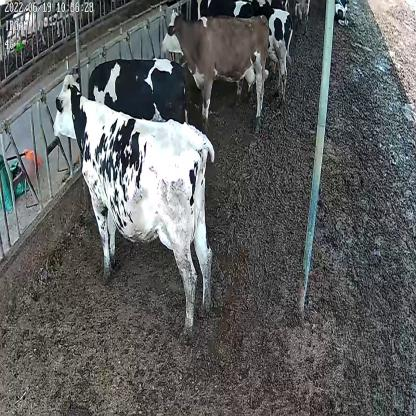cow: (53, 73, 218, 337), (160, 6, 270, 134), (85, 53, 192, 121), (334, 0, 352, 27)
